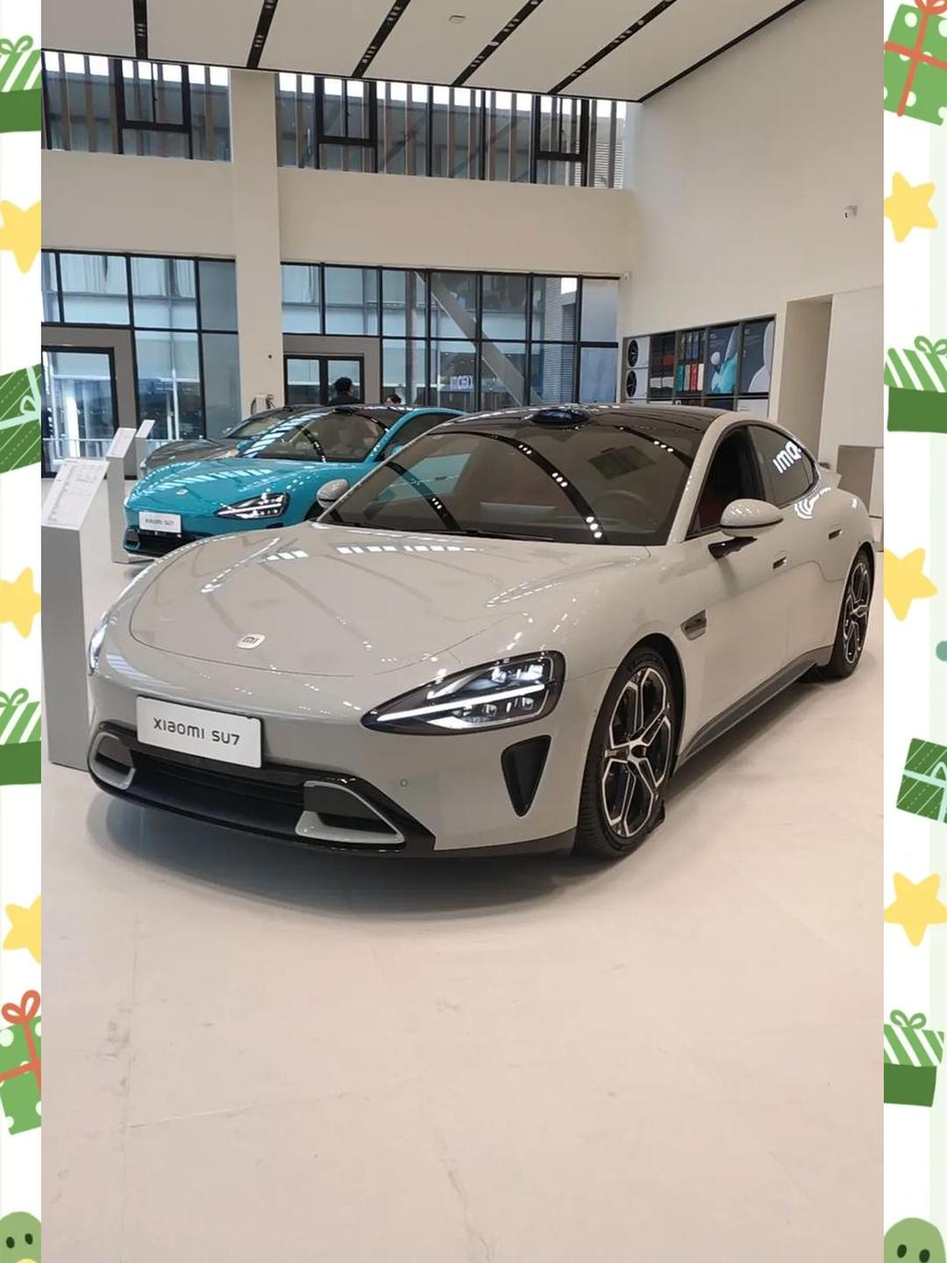su7: (110, 374, 886, 853), (125, 405, 446, 550)
